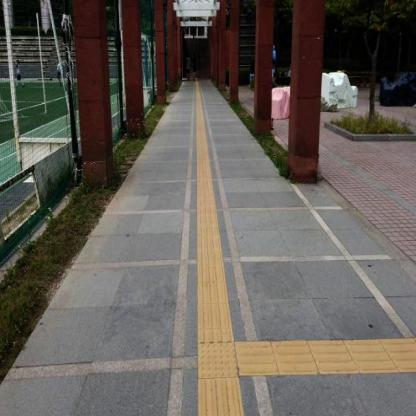podotacti: (193, 82, 234, 340), (177, 305, 270, 412), (241, 340, 415, 375), (198, 378, 242, 415)
